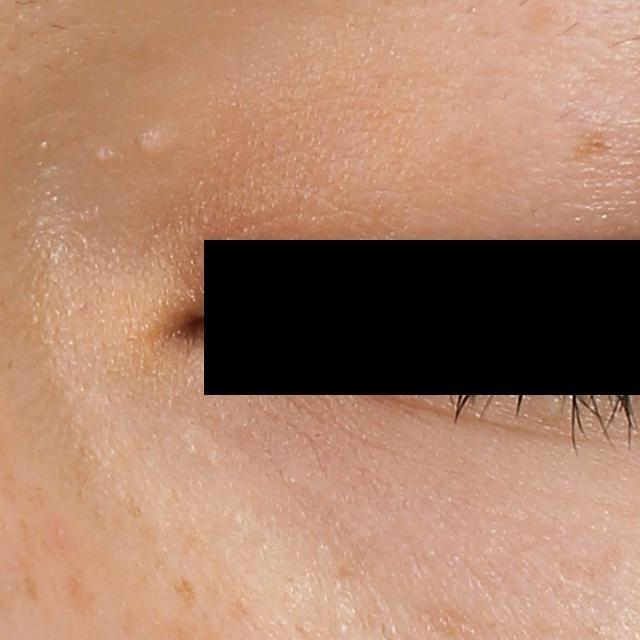melasma: (563, 132, 627, 165), (64, 573, 101, 612), (19, 556, 45, 602), (169, 576, 199, 607)
other: (142, 120, 187, 158), (91, 142, 131, 169)
